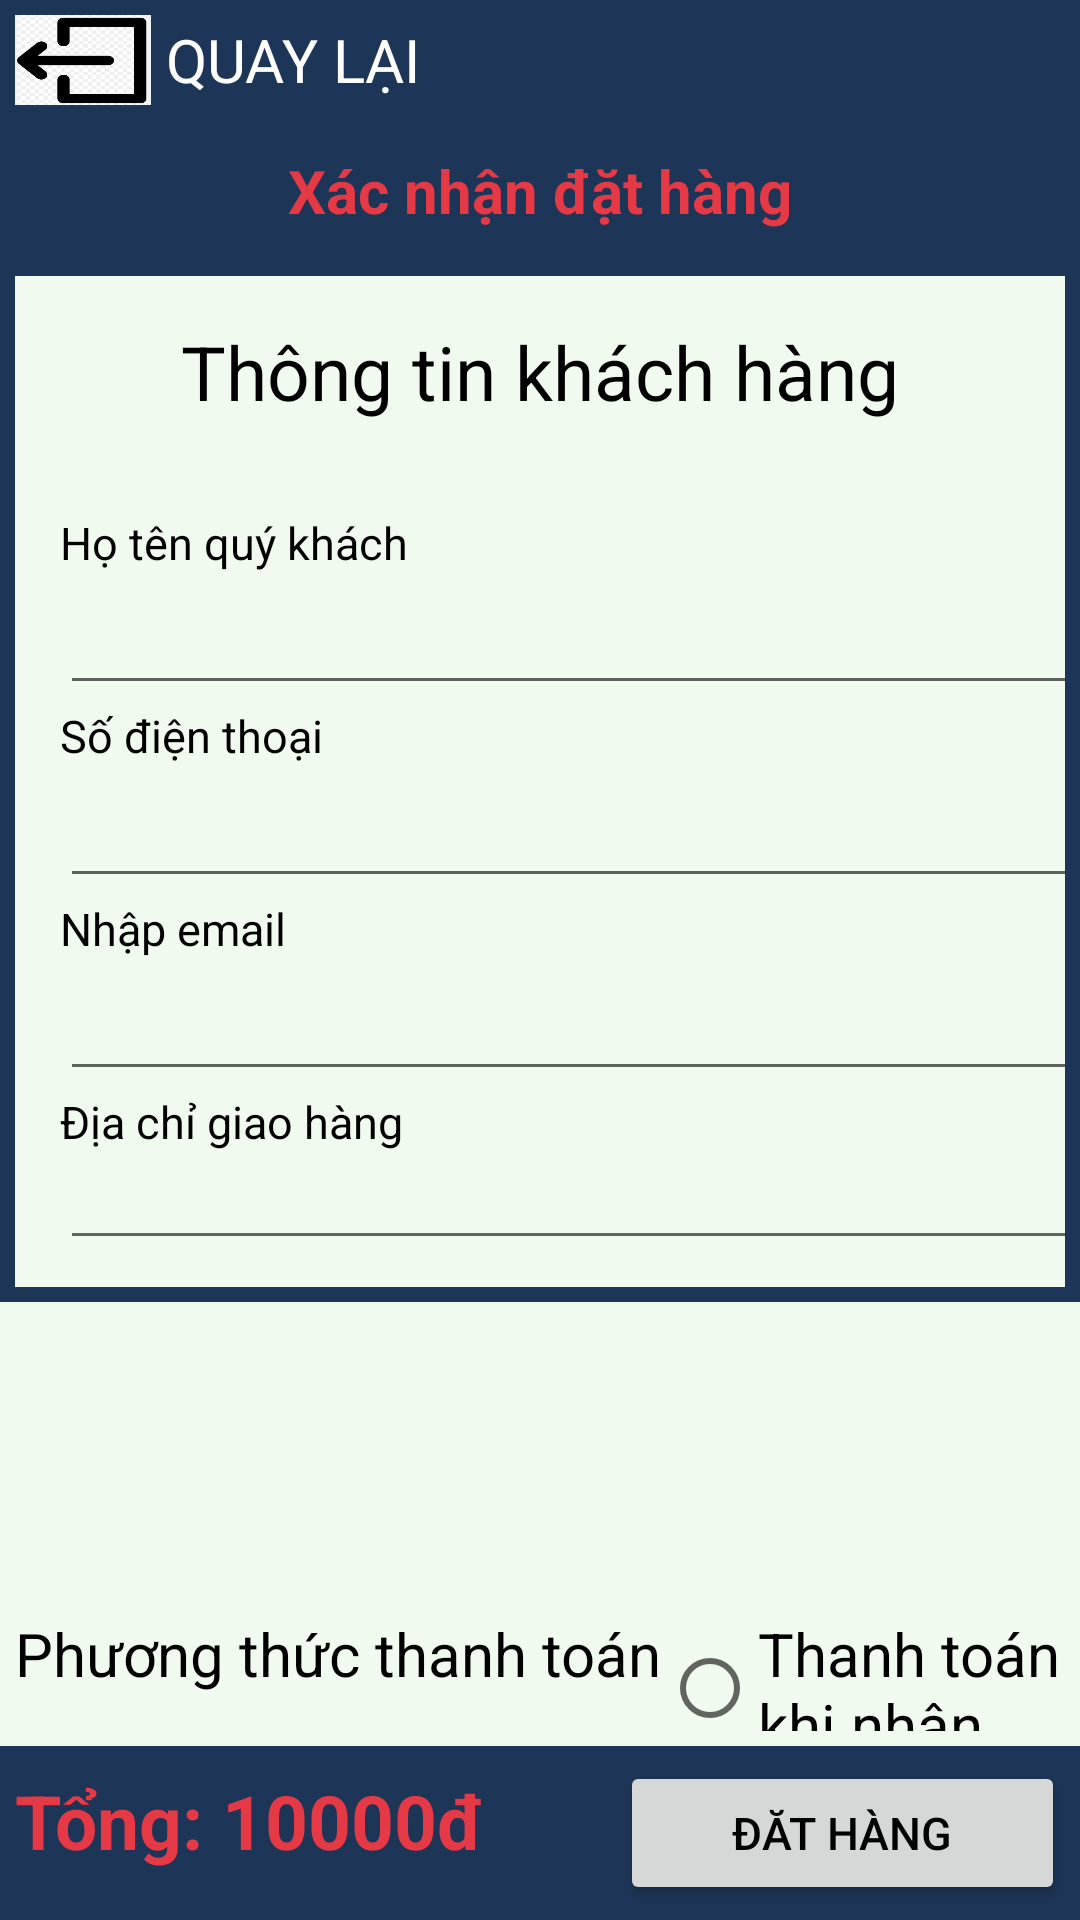

Screen size 1080w x 1920h. Icon name, then its center in pixels as (x,y):
iconexit: (83,60)
